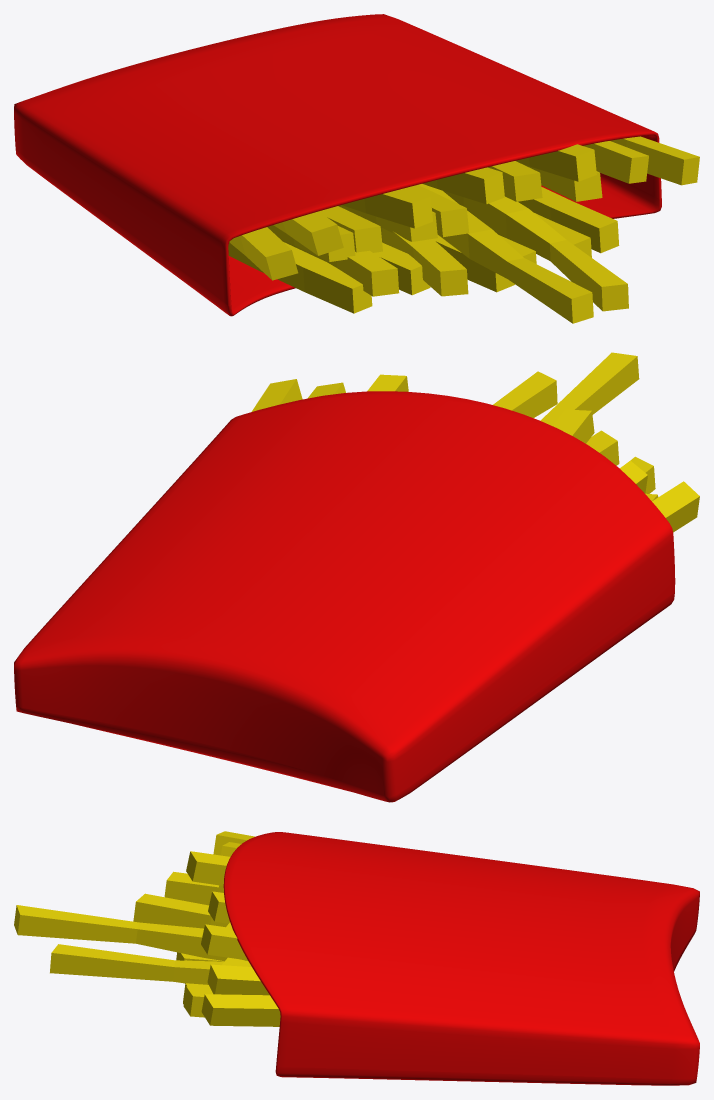
Rendered from fries.fbx.
3 views of the same model, one above another, from view 1: azimuth 30°, elevation 25°; view 2: azimuth 150°, elevation 25°; view 3: azimuth 270°, elevation 25° (orthographic). The views are drawn at different scales.
Parts seen in each view (by area): view 1: object_10_001, object_1_001, object_4_001, object_15_001, object_19_001, object_8_001, object_22_001, object_23_001, object_16_001, object_6_001, object_3_001, object_21_001 (+11 smaller); view 2: object_10_001, object_4_001, object_1_001, object_16_001, object_22_001, object_23_001; view 3: object_10_001, object_4_001, object_1_001, object_23_001, object_8_001, object_3_001, object_22_001, object_6_001, object_13_001, object_19_001, object_21_001, object_16_001.
Part boxes in pixels (x1,y1,x2,y2): object_10_001: (14, 14, 661, 316); object_1_001: (443, 191, 628, 311); object_4_001: (418, 184, 593, 323); object_15_001: (228, 242, 372, 313); object_19_001: (518, 187, 619, 253); object_8_001: (380, 227, 468, 296); object_22_001: (342, 188, 432, 228); object_23_001: (610, 136, 699, 185); object_16_001: (229, 227, 298, 280); object_6_001: (281, 239, 399, 296); object_3_001: (583, 141, 648, 183); object_21_001: (422, 167, 504, 204); object_10_001: (14, 391, 675, 802); object_4_001: (540, 352, 639, 425); object_1_001: (493, 371, 557, 417); object_16_001: (652, 481, 699, 532); object_22_001: (552, 409, 594, 443); object_23_001: (251, 379, 302, 411); object_10_001: (223, 832, 699, 1085); object_4_001: (14, 905, 247, 961); object_1_001: (50, 944, 223, 984); object_23_001: (201, 994, 280, 1026); object_8_001: (133, 893, 211, 928); object_3_001: (207, 964, 269, 995); object_22_001: (186, 851, 230, 885); object_6_001: (164, 871, 218, 905); object_13_001: (201, 924, 247, 960); object_19_001: (183, 986, 212, 1017); object_21_001: (208, 891, 229, 923); object_16_001: (213, 831, 254, 855).
Bounding box in the file's own units: 3.75 × 1.37 × 6.01.
